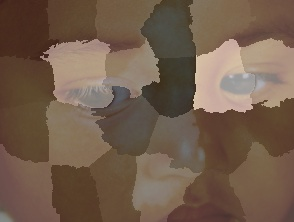vitiligo: (22, 0, 294, 222)
